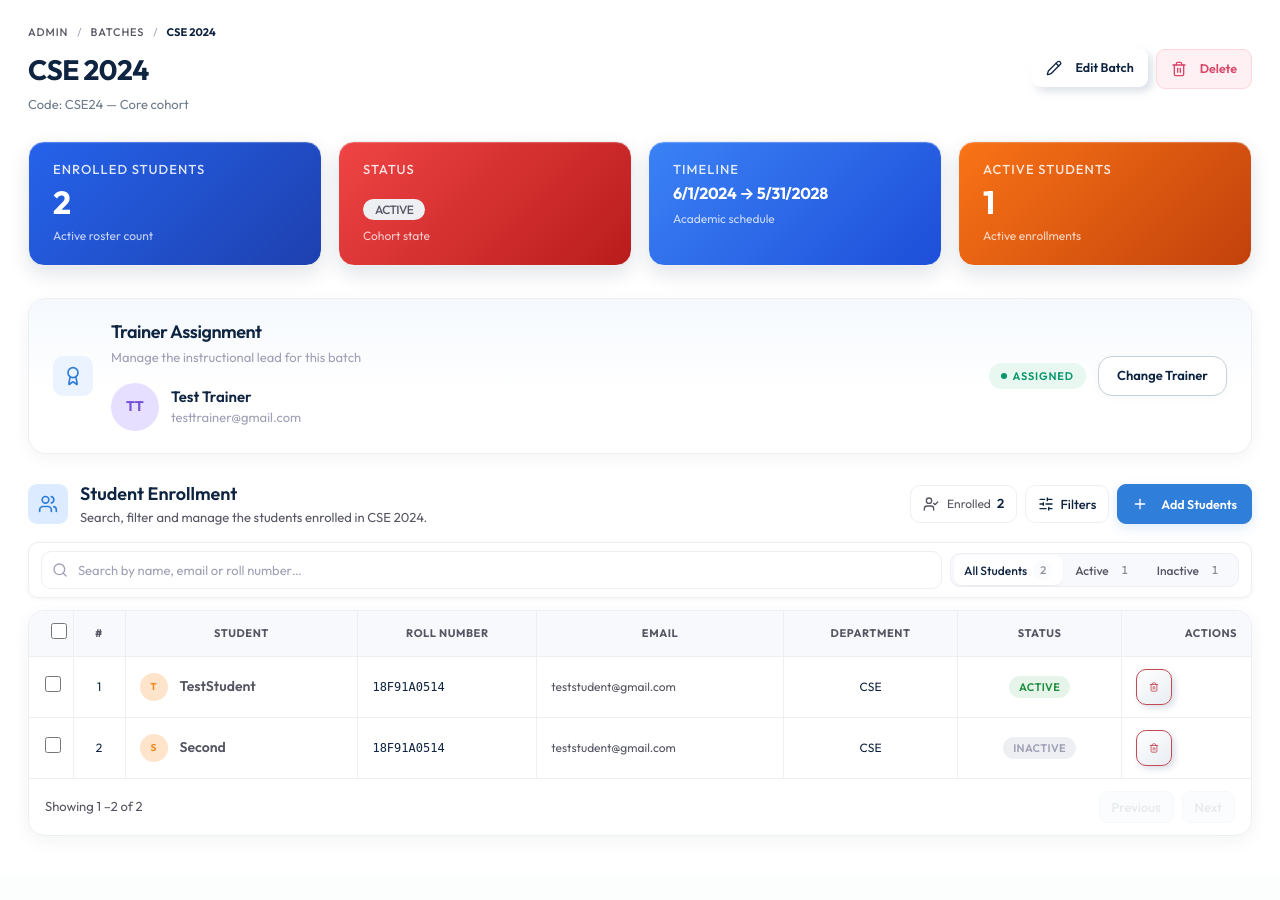
Test: clear filters resets search and status together
expect the text "TestStudent" is shown: met, box 180,677 -> 256,695
Type "Second" into the field named "Search enrolled students" at coordinates (492, 570), box 41,551 -> 942,589
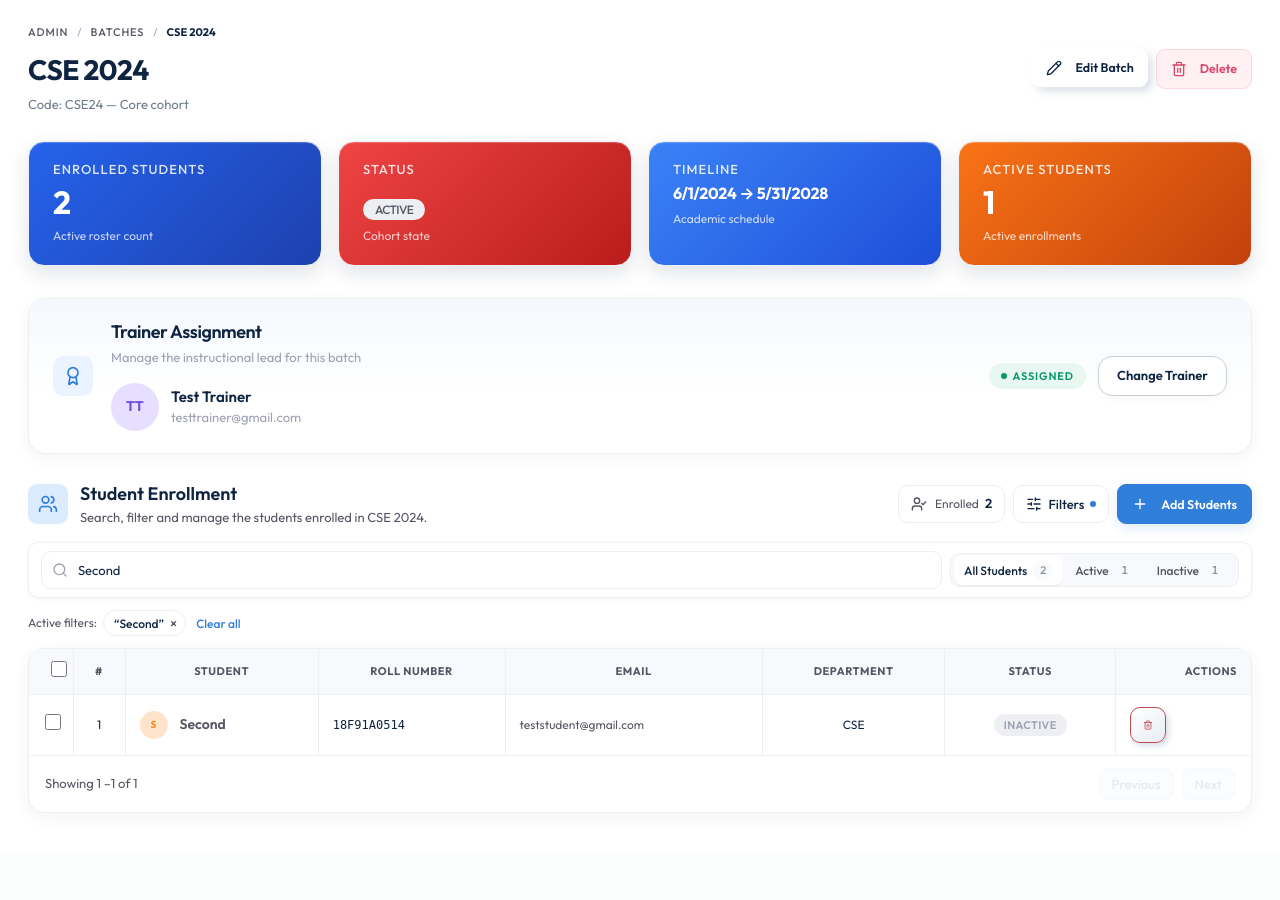
Click the button "Active 1" at coordinates (1105, 570), box 1065,555 -> 1145,585
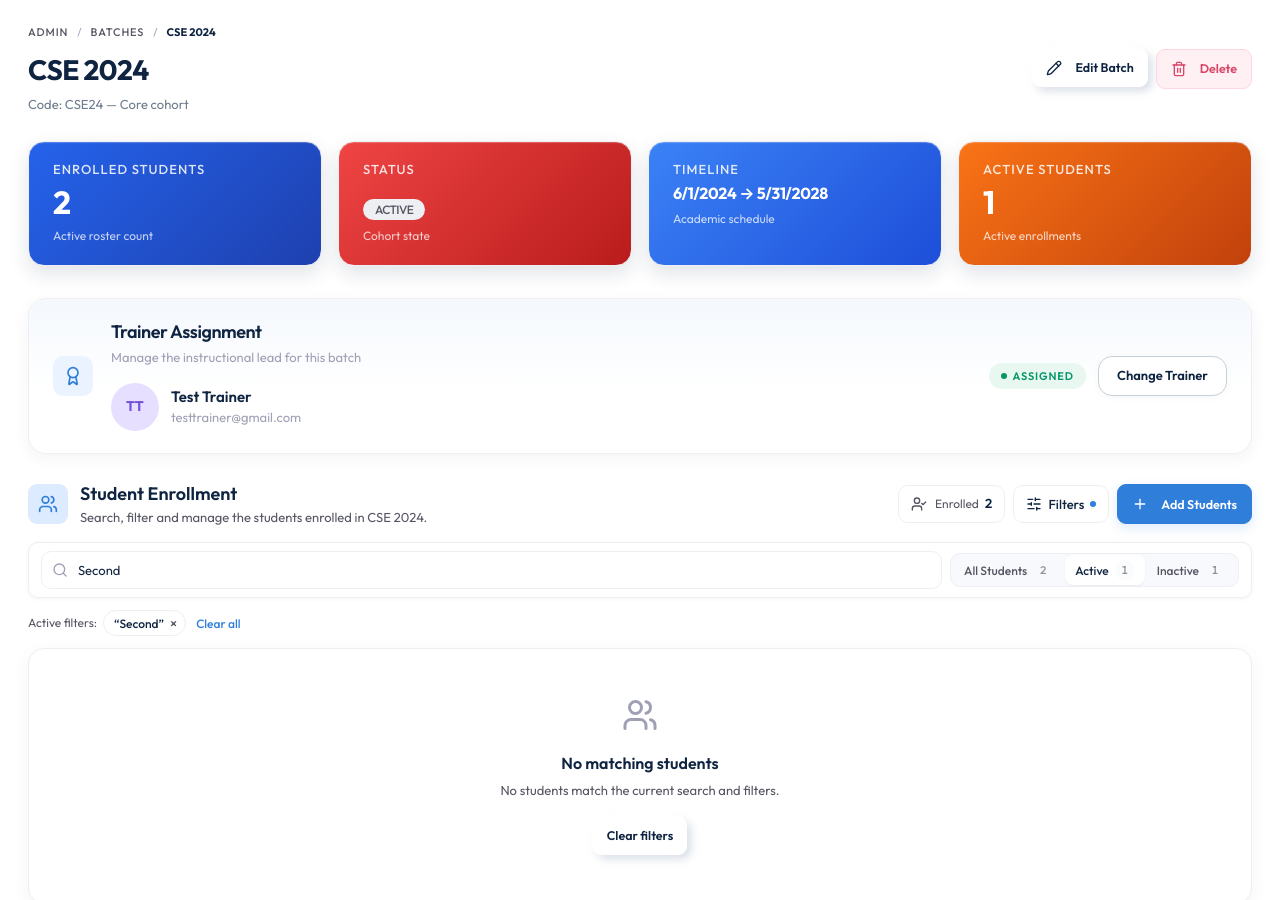
# The chip bar's "Clear all" resets the search box and the status segment together.
Click the button "Clear all" at coordinates (218, 623), box 192,616 -> 244,631
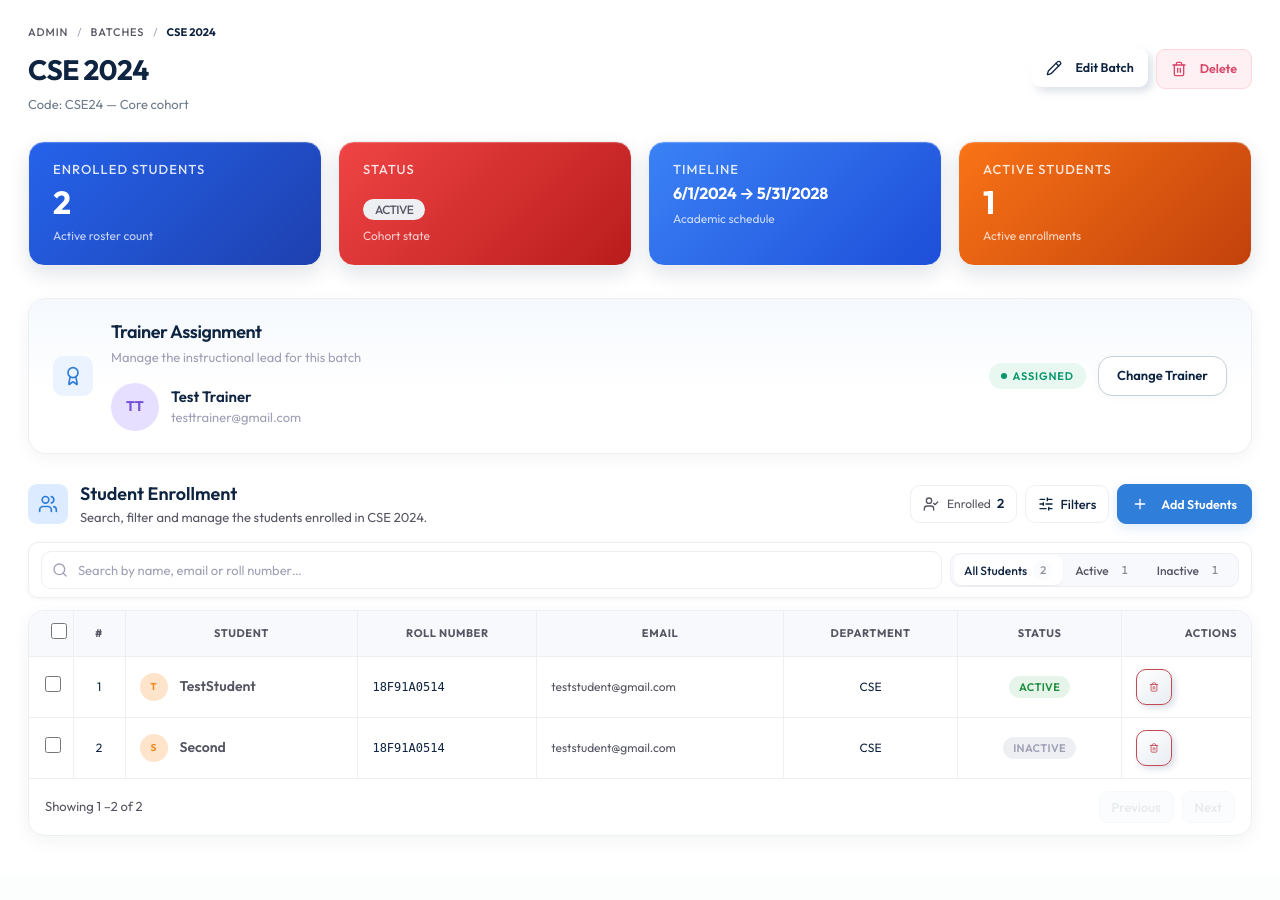
expect the text "TestStudent" is shown: met, box 180,677 -> 256,695
